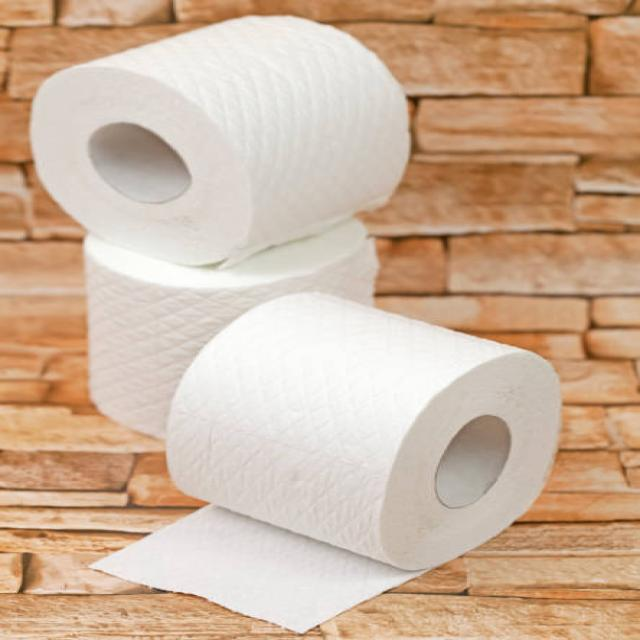electronic: (26, 13, 564, 632), (163, 290, 562, 572), (28, 12, 412, 270), (81, 217, 379, 440), (88, 502, 435, 634)
